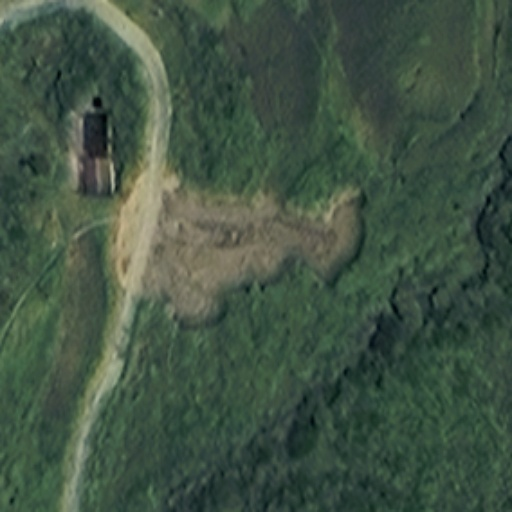landslide: (155, 175, 366, 327)
